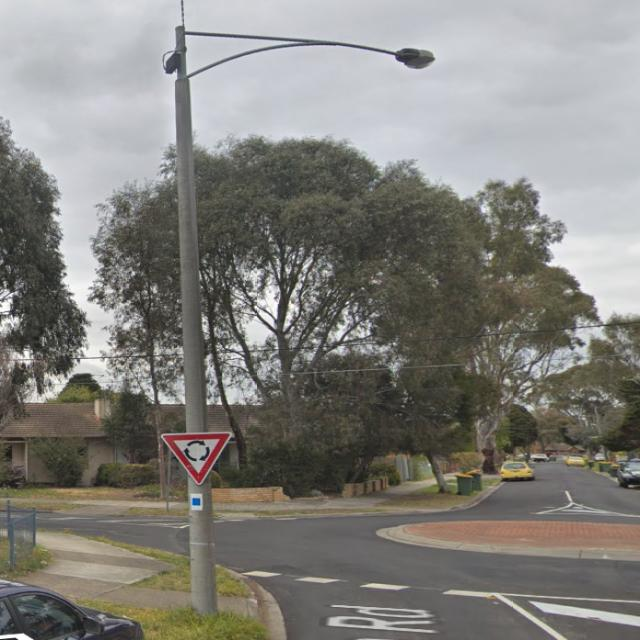concrete-pole: (172, 24, 221, 622)
mid mount suitable pole: (166, 24, 437, 624)
streetlight: (182, 30, 436, 84)
